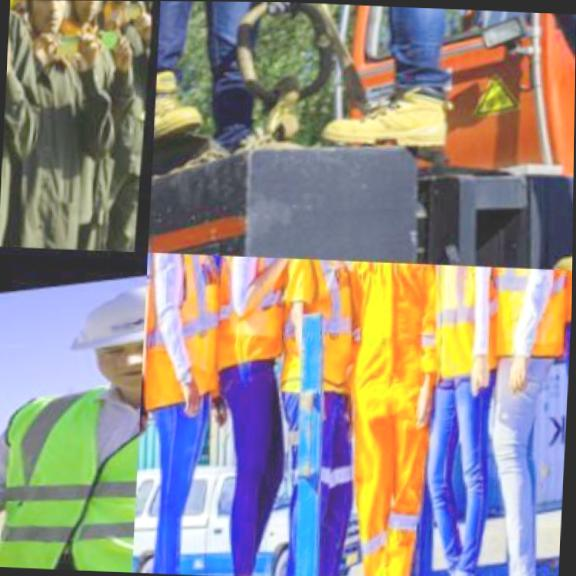safety_vest: (330, 261, 451, 576), (0, 341, 143, 572), (7, 28, 100, 248), (86, 1, 155, 250), (141, 252, 227, 415), (272, 258, 368, 401), (420, 264, 509, 392), (0, 0, 44, 245), (210, 255, 297, 375), (484, 267, 572, 371), (552, 268, 572, 334)
